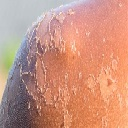Dystrophic Bullosa: (19, 16, 72, 106)
